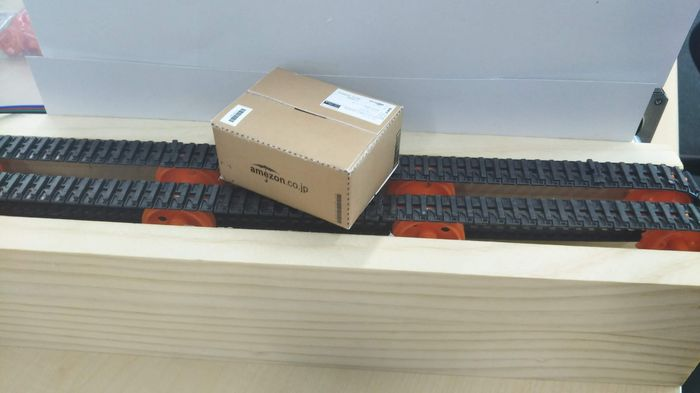box1: (209, 63, 403, 229)
